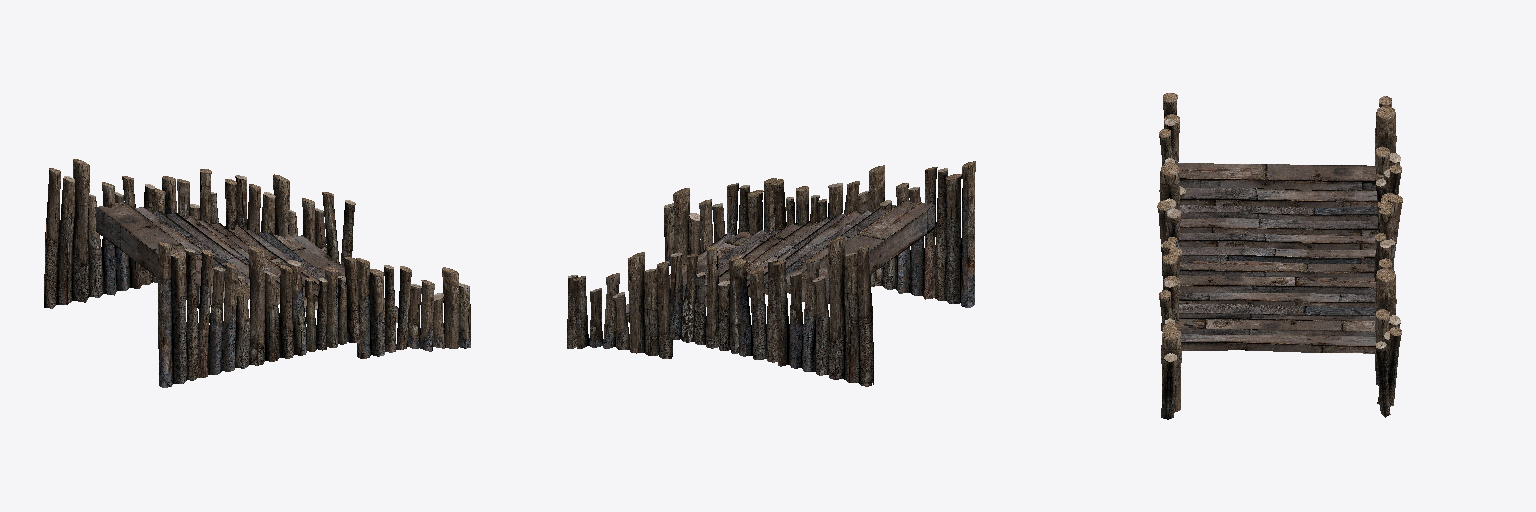
3 views of the same model, side by side, from view 1: azimuth 30°, elevation 25°; view 2: azimuth 150°, elevation 25°; view 3: azimuth 270°, elevation 25° (orthographic).
Parts seen in each view (by area): view 1: node_id5; view 2: node_id5; view 3: node_id5.
Part boxes in pixels (x1,y1,x2,y2): node_id5: (44,159,470,387); node_id5: (567,161,975,386); node_id5: (1157,93,1402,419).
Size of the model in its own units: 22.87 by 12.26 by 15.29.
1 materials, 1 textured.